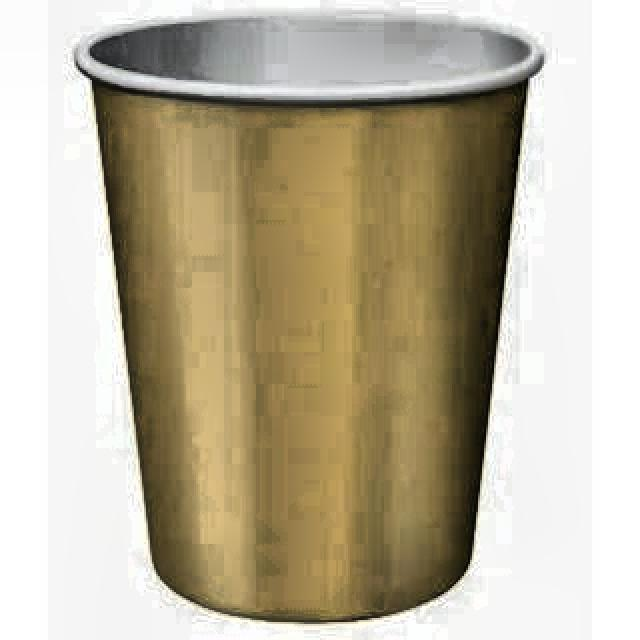Cup: (66, 0, 546, 626)
